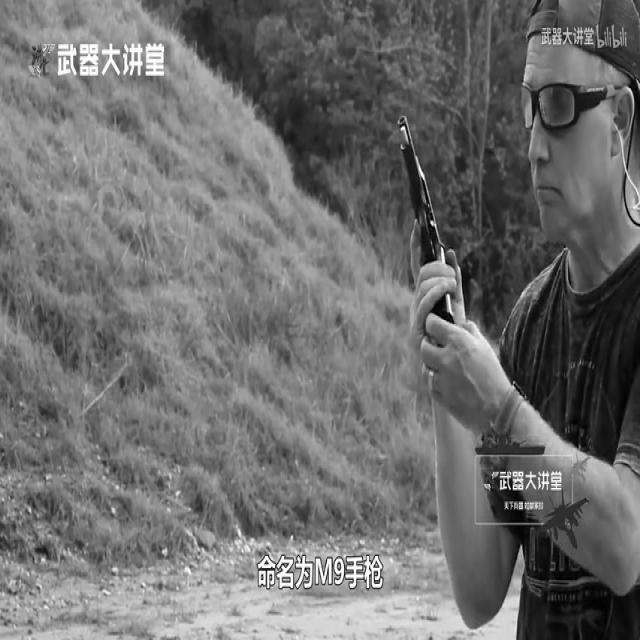Hand-Gun: (362, 92, 526, 435)
